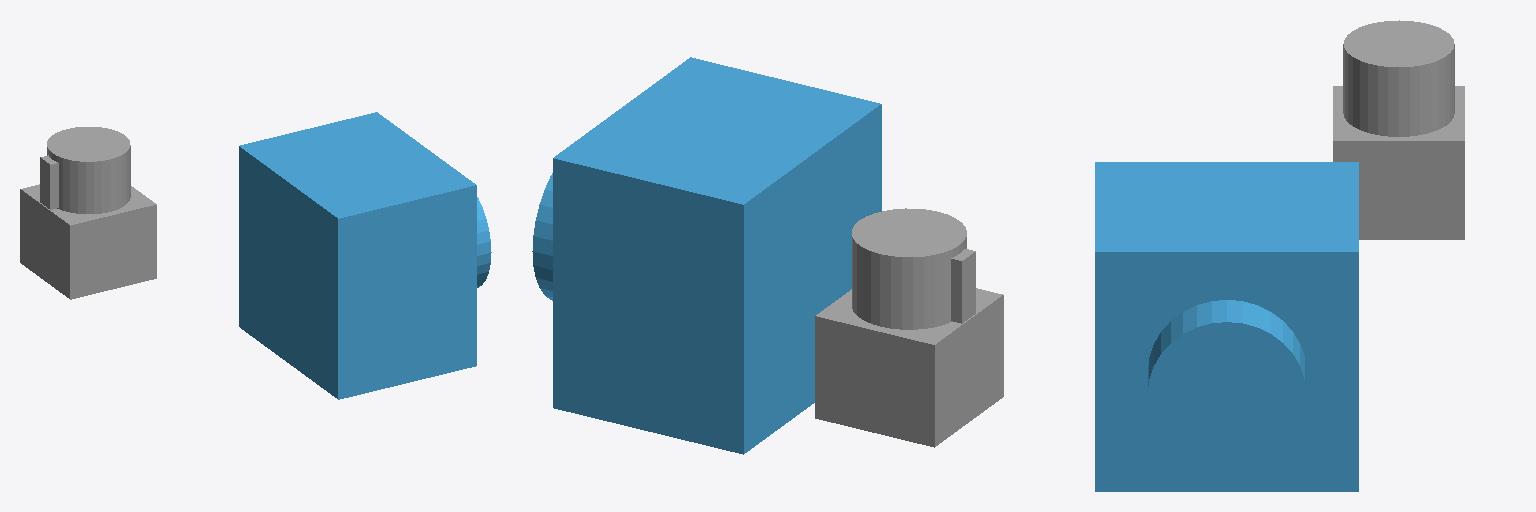
The robot description file, URDF, robot "robot":
<?xml version="1.0" ?>
<robot name="robot">
  <link name="base_footprint"/>

  <joint name="base_joint" type="fixed">
    <parent link="base_footprint"/>
    <child link="base_link" />
    <origin xyz="0 0 0.010" rpy="0 0 0"/>
  </joint>

  <link name="base_link">
    <inertial>
      <mass value="14.0"/>
      <origin rpy="0  0  0" xyz="0    0    0.18"/>
      <inertia ixx="0.147116667" ixy="0.0" ixz="0.0" iyy="0.334951167" iyz="0.0" izz="0.3978345"/>
    </inertial>
    <collision name="collision1">
      <origin rpy="0  0  0" xyz="0    0    0.18"/>
      <geometry>
        <box size="0.501 0.300 0.19"/>
      </geometry>
    </collision>
    <visual name="visual1">
      <origin rpy="0  0  0" xyz="0    0    0.18"/>
      <geometry>
        <mesh filename="package://rvrl_description/meshes/p3at/chassis.dae" scale="1.0 1.0 1.0"/>
      </geometry>
    </visual>
  </link>

  <joint name="right_front" type="revolute">
    <parent link="base_link"/>
    <child link="right_front_wheel"/>
    <origin rpy="1.5707  0      0" xyz="0.125 -0.201  0.12"/>
    <axis xyz="0.00000000e+00   9.00000000e-05  -1.00000000e+00"/>
    <limit effort="0" lower="0" upper="0" velocity="0"/>
  </joint>


  <link name="right_front_wheel">
    <inertial>
      <mass value="1.5"/>
      <origin rpy="0  0  0" xyz="0  0  0"/>
      <inertia ixx="0.005240625" ixy="0" ixz="0" iyy="0.005240625" iyz="0" izz="0.009075"/>
    </inertial>
    <collision name="collision">
      <origin rpy="0  0  0" xyz="0  0  0"/>
      <geometry>
        <cylinder length="0.075" radius="0.110"/>
      </geometry>
    </collision>
    <visual name="visual">
      <origin rpy="0  0  0" xyz="0  0  0"/>
      <geometry>
        <mesh filename="package://rvrl_description/meshes/p3at/wheel.dae" scale="1.0 1.0 1.0"/>
      </geometry>
    </visual>
  </link>

  <joint name="right_rear" type="revolute">
    <parent link="base_link"/>
    <child link="right_rear_wheel"/>
    <origin rpy="1.5707  0      0" xyz="-0.125 -0.201  0.12"/>
    <axis xyz="0.00000000e+00   9.00000000e-05  -1.00000000e+00"/>
    <limit effort="0" lower="0" upper="0" velocity="0"/>
  </joint>

  <link name="left_front_wheel">
    <inertial>
      <mass value="1.5"/>
      <origin rpy="0  0  0" xyz="0  0  0"/>
      <inertia ixx="0.005240625" ixy="0" ixz="0" iyy="0.005240625" iyz="0" izz="0.009075"/>
    </inertial>
    <collision name="collision">
      <origin rpy="0  0  0" xyz="0  0  0"/>
      <geometry>
        <cylinder length="0.075" radius="0.110"/>
      </geometry>
    </collision>
    <visual name="visual">
      <origin rpy="0  0  0" xyz="0  0  0"/>
      <geometry>
        <mesh filename="package://rvrl_description/meshes/p3at/wheel.dae" scale="1.0 1.0 1.0"/>
      </geometry>
    </visual>
  </link>

  <joint name="left_front" type="revolute">
    <parent link="base_link"/>
    <child link="left_front_wheel"/>
    <origin rpy="1.5707  0      0" xyz="0.125  0.201  0.12"/>
    <axis xyz="0.00000000e+00   9.00000000e-05  -1.00000000e+00"/>
    <limit effort="0" lower="0" upper="0" velocity="0"/>
  </joint>

  <link name="right_rear_wheel">
    <inertial>
      <mass value="1.5"/>
      <origin rpy="0  0  0" xyz="0  0  0"/>
      <inertia ixx="0.005240625" ixy="0" ixz="0" iyy="0.005240625" iyz="0" izz="0.009075"/>
    </inertial>
    <collision name="collision">
      <origin rpy="0  0  0" xyz="0  0  0"/>
      <geometry>
        <cylinder length="0.075" radius="0.110"/>
      </geometry>
    </collision>
    <visual name="visual">
      <origin rpy="0  0  0" xyz="0  0  0"/>
      <geometry>
        <mesh filename="package://rvrl_description/meshes/p3at/wheel.dae" scale="1.0 1.0 1.0"/>
      </geometry>
    </visual>
  </link>

  <joint name="left_rear" type="revolute">
    <parent link="base_link"/>
    <child link="left_rear_wheel"/>
    <origin rpy="1.5707  0      0" xyz="-0.125  0.201  0.12"/>
    <axis xyz="0.00000000e+00   9.00000000e-05  -1.00000000e+00"/>
    <limit effort="0" lower="0" upper="0" velocity="0"/>
  </joint>

  <link name="left_rear_wheel">
    <inertial>
      <mass value="1.5"/>
      <origin rpy="0  0  0" xyz="0  0  0"/>
      <inertia ixx="0.005240625" ixy="0" ixz="0" iyy="0.005240625" iyz="0" izz="0.009075"/>
    </inertial>
    <collision name="collision">
      <origin rpy="0  0  0" xyz="0  0  0"/>
      <geometry>
        <cylinder length="0.075" radius="0.110"/>
      </geometry>
    </collision>
    <visual name="visual">
      <origin rpy="0  0  0" xyz="0  0  0"/>
      <geometry>
        <mesh filename="package://rvrl_description/meshes/p3at/wheel.dae" scale="1.0 1.0 1.0"/>
      </geometry>
    </visual>
  </link>

  <joint name="imu_joint" type="fixed">
    <parent link="base_link"/>
    <child link="imu_link"/>
    <origin xyz="0.0 0 0.068" rpy="0 0 0"/>
  </joint>

  <link name="imu_link"/>

  <joint name="lidar_joint" type="fixed">
    <parent link="base_link"/>
    <child link="base_scan"/>
    <origin xyz="-0.064 0 0.122" rpy="0 0 0"/>
  </joint>

  <link name="base_scan">
    <inertial>
      <mass value="0.1"/>
      <origin rpy="0  0  0" xyz="0  0  0"/>
      <inertia ixx="0.6205208333e-04" ixy="0" ixz="0" iyy="0.6205208333e-04" iyz="0" izz="4.1927083333e-05"/>
    </inertial>
    <collision name="collision-base">
      <origin rpy="0  0  0" xyz="0      0     -0.0145"/>
      <geometry>
        <box size="0.05 0.05 0.041"/>
      </geometry>
    </collision>
    <collision name="collision-top">
      <origin rpy="0  0  0" xyz="0      0      0.0205"/>
      <geometry>
        <cylinder length="0.029" radius="0.021"/>
      </geometry>
    </collision>
    <visual name="visual-base">
      <origin rpy="0  0  0" xyz="0      0     -0.0145"/>
      <geometry>
        <box size="0.05 0.05 0.041"/>
      </geometry>
    </visual>
    <visual name="visual-top">
      <origin rpy="0  0  0" xyz="0      0      0.0205"/>
      <geometry>
        <cylinder length="0.029" radius="0.021"/>
      </geometry>
    </visual>
    <visual name="visual-top-back">
      <origin rpy="0  0  0" xyz="-0.02   0     0.019"/>
      <geometry>
        <box size="0.01 0.01 0.025"/>
      </geometry>
    </visual>
  </link>

  <!-- begin of sonar added by [author] - July 2022 -->
  <joint name="base_front_joint" type="fixed">
        <origin rpy="0 0 0" xyz="0.0 0 0.0"/>
        <parent link="base_link"/>
        <child link="front_sonar"/>
    </joint>
    <link name="front_sonar">
        <origin rpy="0 0 0" xyz="0.193 0 0.25"/>
    <inertial>
      <mass value="0.1"/>
      <origin xyz="0 0 0"/>
      <inertia ixx="1.0" ixy="0.0" ixz="0.0" iyy="1.0" iyz="0.0" izz="1.0"/>
    </inertial>
    <visual>
      <origin rpy="0 0 0" xyz="0 0 0"/>
      <!--geometry name="pioneer_geom">
        <mesh filename="package://amr_robots_description/meshes/p3at_meshes/front_sonar.stl"/>
      </geometry-->
      <material name="SonarYellow">
        <color rgba="0.715 0.583 0.210 1.0"/>
      </material>
    </visual>
    </link>
    <!-- end of sonar added by [author] - July 2022 -->


  <joint name="camera_joint" type="fixed">
    <origin xyz="0.064 -0.065 0.094" rpy="0 0 0"/>
    <parent link="base_link"/>
    <child link="camera_link"/>
  </joint>

  <link name="camera_link">
    <inertial>
      <mass value="0.1"/>
      <origin rpy="0  0  0" xyz="0  0  0"/>
      <inertia ixx="0.000166667" ixy="0" ixz="0" iyy="0.000166667" iyz="0" izz="0.000166667"/>
    </inertial>
    <collision name="collision-box">
      <origin rpy="0  0  0" xyz="-0.01  0    0"/>
      <geometry>
        <box size="0.08 0.1 0.1"/>
      </geometry>
    </collision>
    <collision name="collision-lens">
      <origin rpy="0    1.57  0" xyz="0.04  0    0"/>
      <geometry>
        <cylinder length="0.02" radius="0.03"/>
      </geometry>
    </collision>
    <visual name="visual-box">
      <origin rpy="0  0  0" xyz="-0.01  0    0"/>
      <geometry>
        <box size="0.08 0.1 0.1"/>
      </geometry>
    </visual>
    <visual name="visual-lens">
      <origin rpy="0    1.57  0" xyz="0.04  0    0"/>
      <geometry>
        <cylinder length="0.02" radius="0.03"/>
      </geometry>
    </visual>
  </link>

  <joint name="camera_rgb_joint" type="fixed">
    <origin xyz="0.005 0.018 0.013" rpy="0 0 0"/>
    <!-- <origin xyz="${r200_cam_rgb_px} ${r200_cam_rgb_py} ${r200_cam_rgb_pz}" rpy="0 0 0"/> -->
    <parent link="camera_link"/>
    <child link="camera_rgb_frame"/>
  </joint>
  <link name="camera_rgb_frame"/>

  <joint name="camera_rgb_optical_joint" type="fixed">
    <origin xyz="0 0 0" rpy="-1.57 0 -1.57"/>
    <parent link="camera_rgb_frame"/>
    <child link="camera_rgb_optical_frame"/>
  </joint>
  <link name="camera_rgb_optical_frame"/>

  <joint name="camera_depth_joint" type="fixed">
    <origin xyz="0.005 0.028 0.013" rpy="-1.57 0 -1.57"/>
    <!-- <origin xyz="${r200_cam_rgb_px} ${r200_cam_rgb_py + r200_cam_depth_offset} ${r200_cam_rgb_pz}" rpy="0 0 0"/> -->
    <parent link="camera_link"/>
    <child link="camera_depth_frame"/>
  </joint>
  <link name="camera_depth_frame"/>

  <joint name="camera_depth_optical_joint" type="fixed">
    <origin xyz="0 0 0" rpy="0 0 0"/>
    <parent link="camera_depth_frame"/>
    <child link="camera_depth_optical_frame"/>
  </joint>

  <link name="camera_depth_optical_frame"/>

</robot>

--- Facts derived from the render (not from the file) ---
Views: 3 orthographic renders of the robot side by side, from view 1: azimuth 30°, elevation 25°; view 2: azimuth 150°, elevation 25°; view 3: azimuth 270°, elevation 25°.
Model robot with 14 links and 13 joints (4 revolute, 9 fixed), rooted at base_footprint, posed every joint at zero.
Links seen in each view (by area): view 1: camera_link, base_scan; view 2: camera_link, base_scan; view 3: camera_link, base_scan.
Link boxes in pixels (x1,y1,x2,y2): camera_link: [239, 112, 491, 399]; base_scan: [20, 127, 156, 299]; camera_link: [532, 57, 881, 454]; base_scan: [815, 208, 1003, 447]; camera_link: [1095, 162, 1358, 491]; base_scan: [1333, 20, 1464, 239].
Size in the robot's own frame: 0.203 by 0.14 by 0.113 metres.
Meshes: 2 distinct files referenced, 0 mesh visuals loaded (none loaded); not drawn: 5 (reference not matched to a file when rendering).